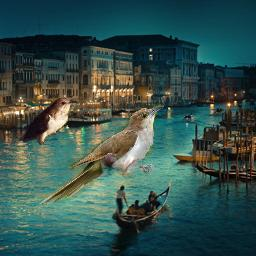Cuckoo: (38, 104, 164, 204), (13, 97, 79, 145)
